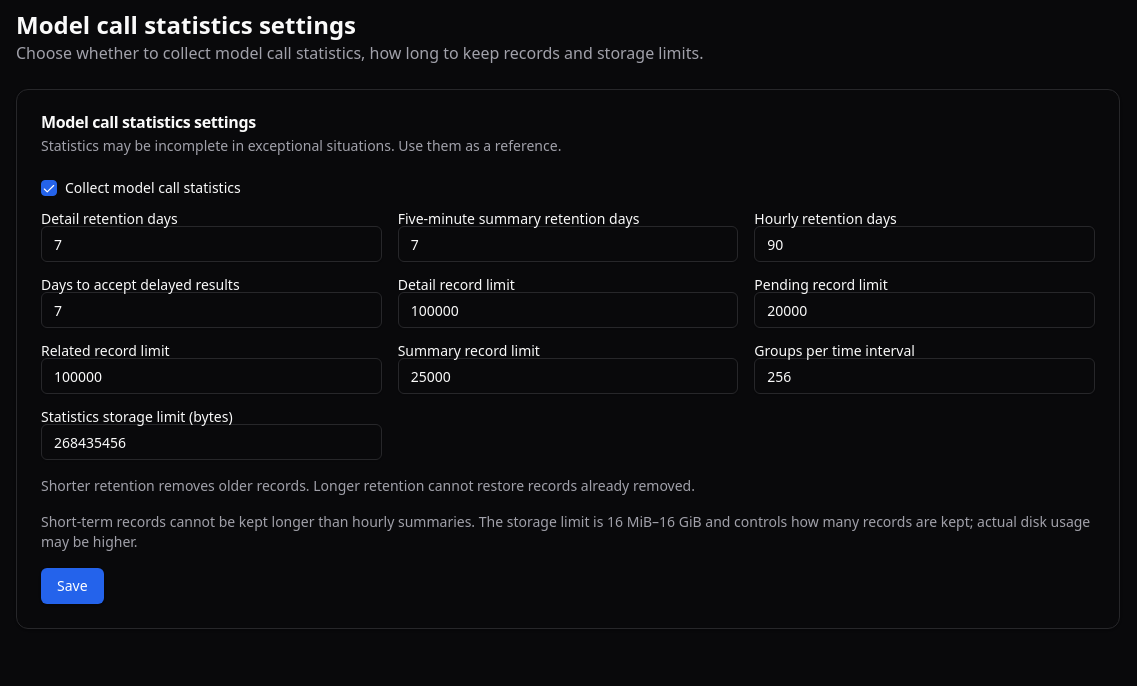
Scenario: model statistics settings › keeps an edited draft after a revision conflict and reloads only on explicit action
Replace the text in the number field labelled "Detail retention days" with "8" at (211, 244), box top-left (41, 226), bottom-right (382, 262)
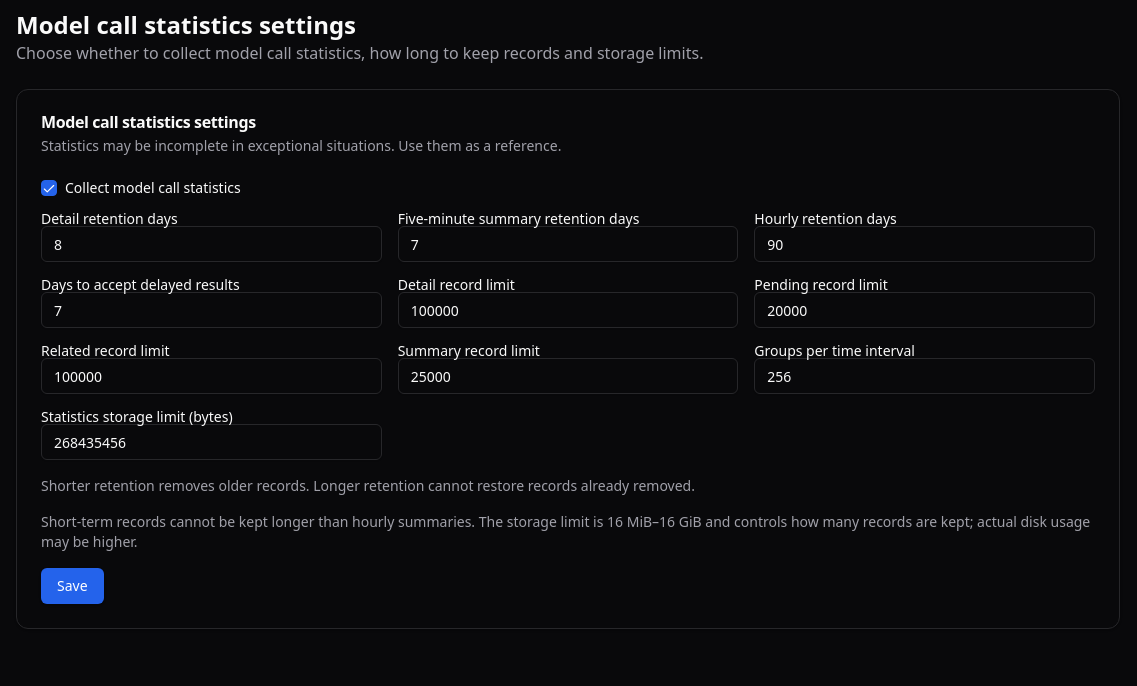
Submit the form, box top-left (41, 180), bottom-right (1095, 604)
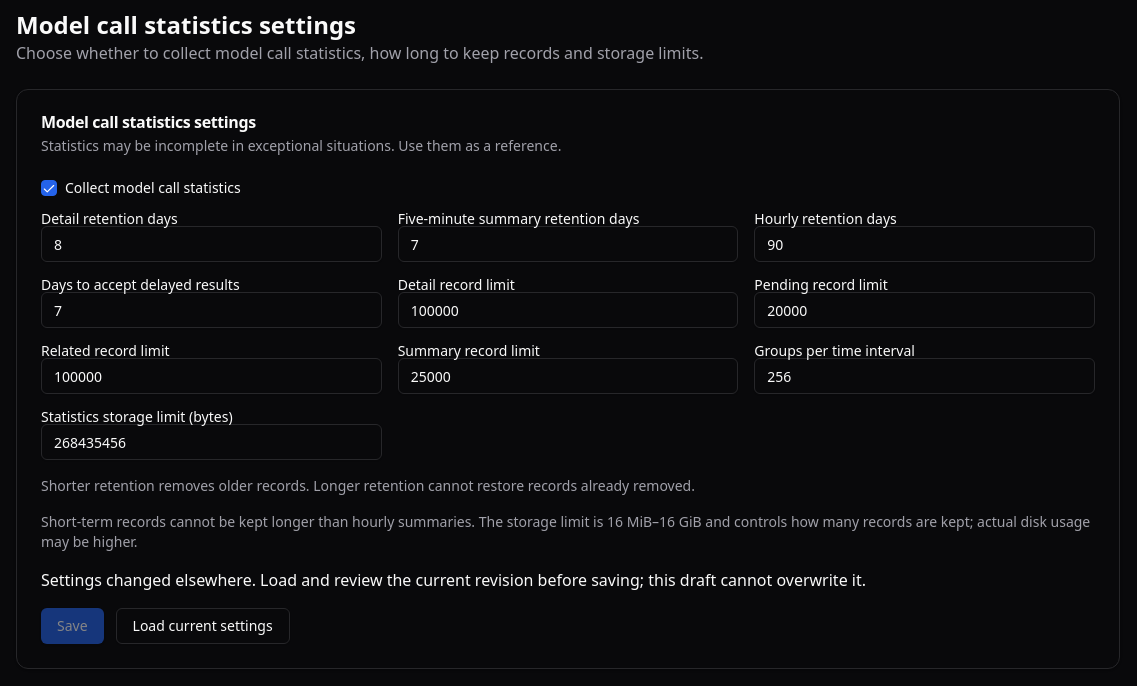
Now the text "Settings changed elsewhere. Load and review the current revision before saving; this draft cannot overwrite it." is shown, box top-left (41, 569), bottom-right (866, 591)
Now the button "Save" is disabled, box top-left (41, 608), bottom-right (104, 644)
Click the button "Load current settings" at (203, 626), box top-left (116, 608), bottom-right (290, 644)
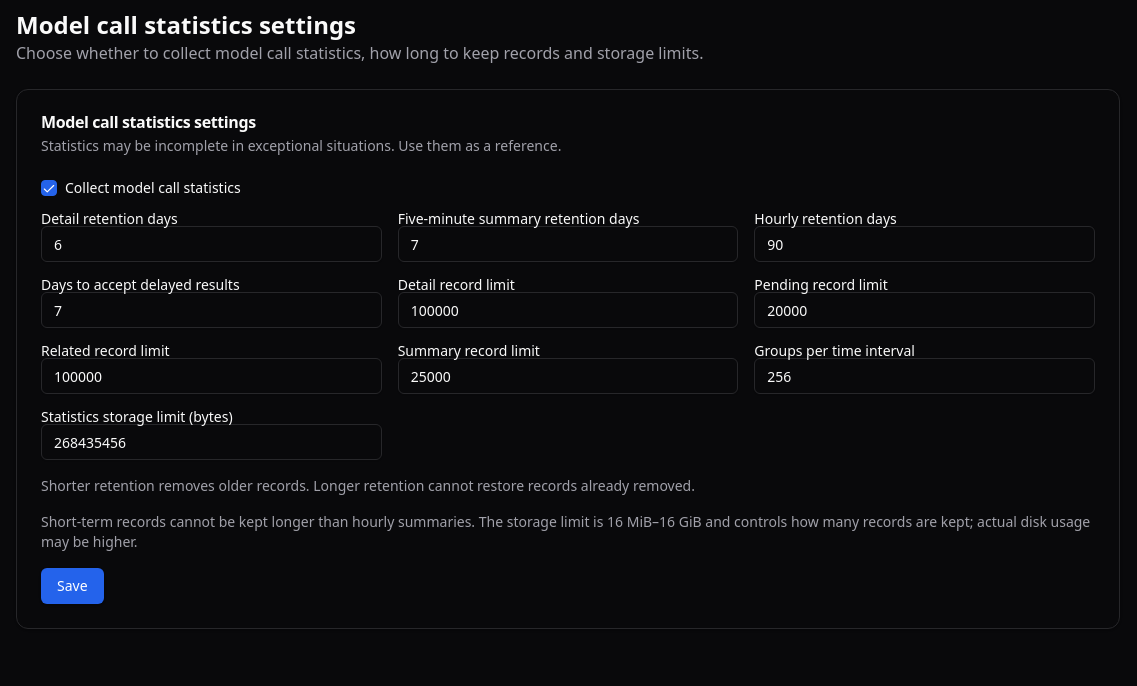
Now the number field labelled "Detail retention days" holds "6", box top-left (41, 226), bottom-right (382, 262)
Now the button "Save" is enabled, box top-left (41, 568), bottom-right (104, 604)
